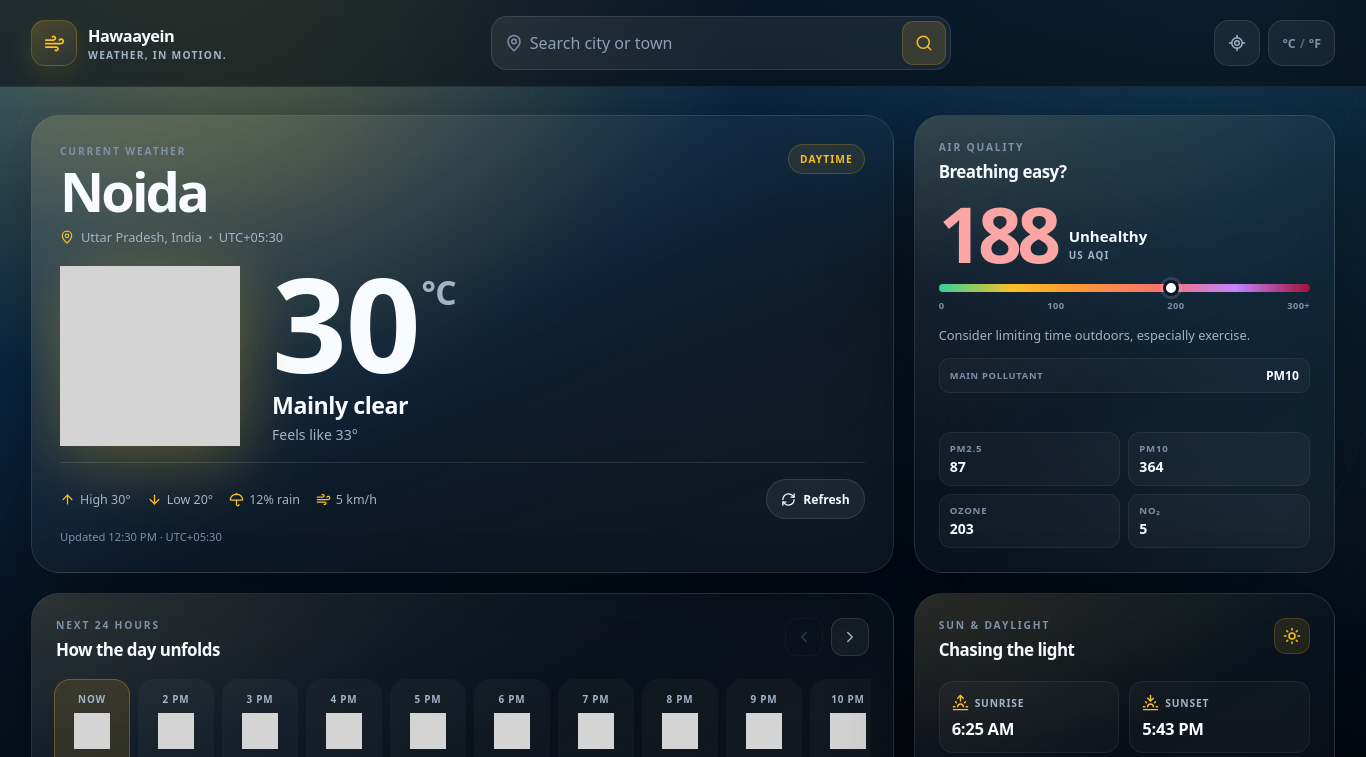
Scenario: searches for a city and loads its forecast
Expected: the heading "Noida" is shown, [60,154,207,228]
Type "London" into the dropdown named "search for a city" at (712, 43), box [528,21,897,65]
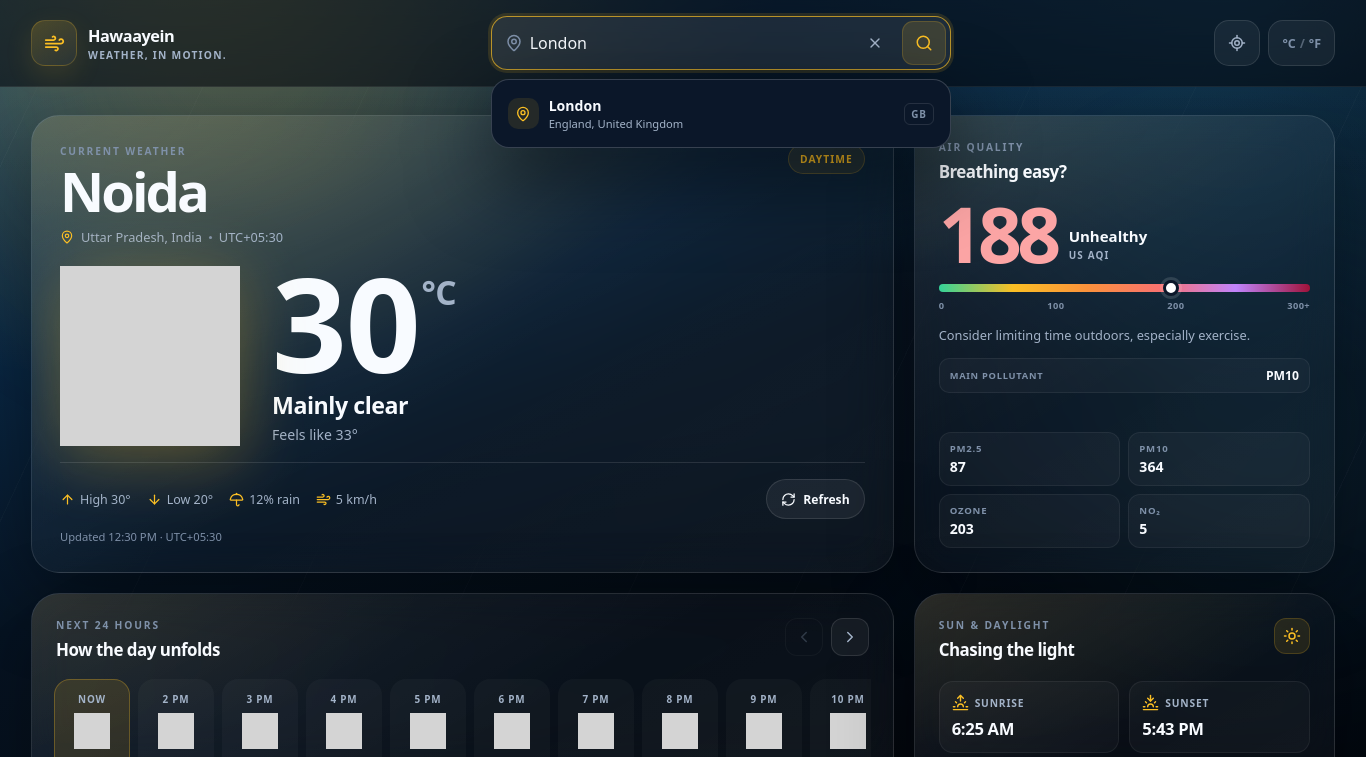
Click the option "London England, United Kingdom GB" at (523, 114), box [498,86,944,141]
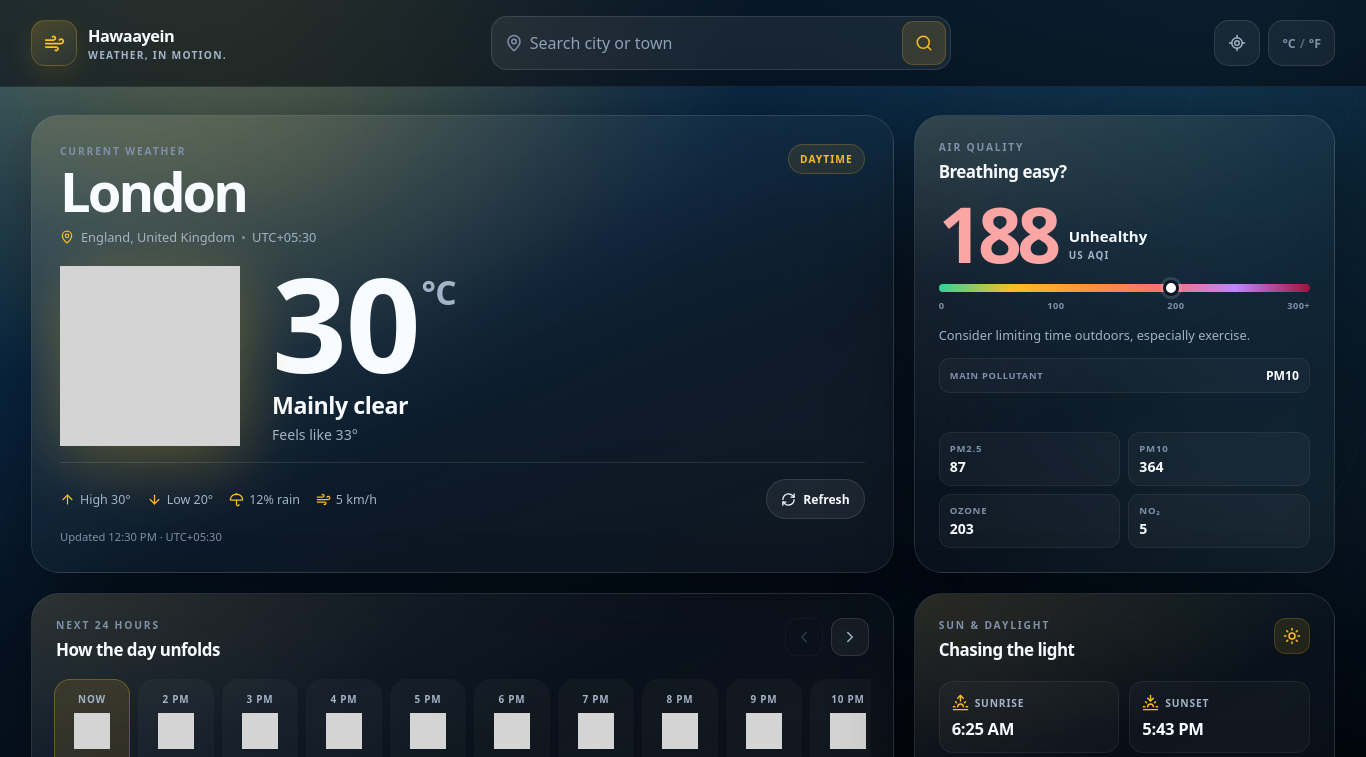
Expected: the heading "London" is shown, [60,154,246,228]
Expected: the text "England, United Kingdom" is shown, [81,228,235,246]
